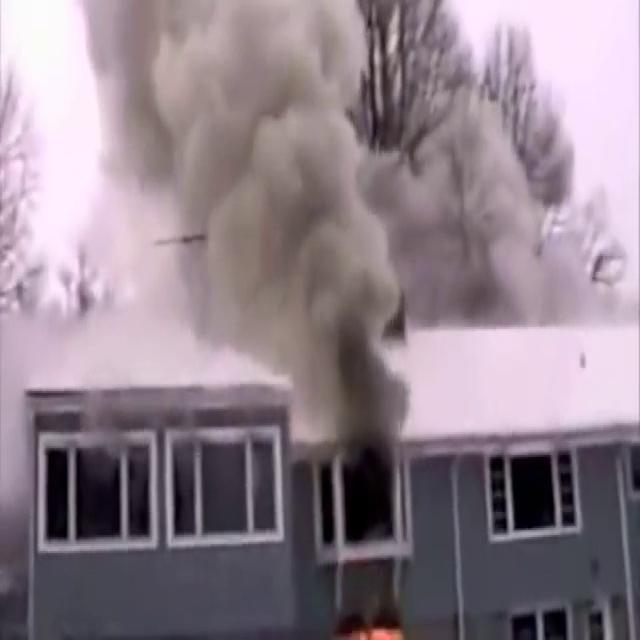Smoke: (35, 0, 596, 416)
